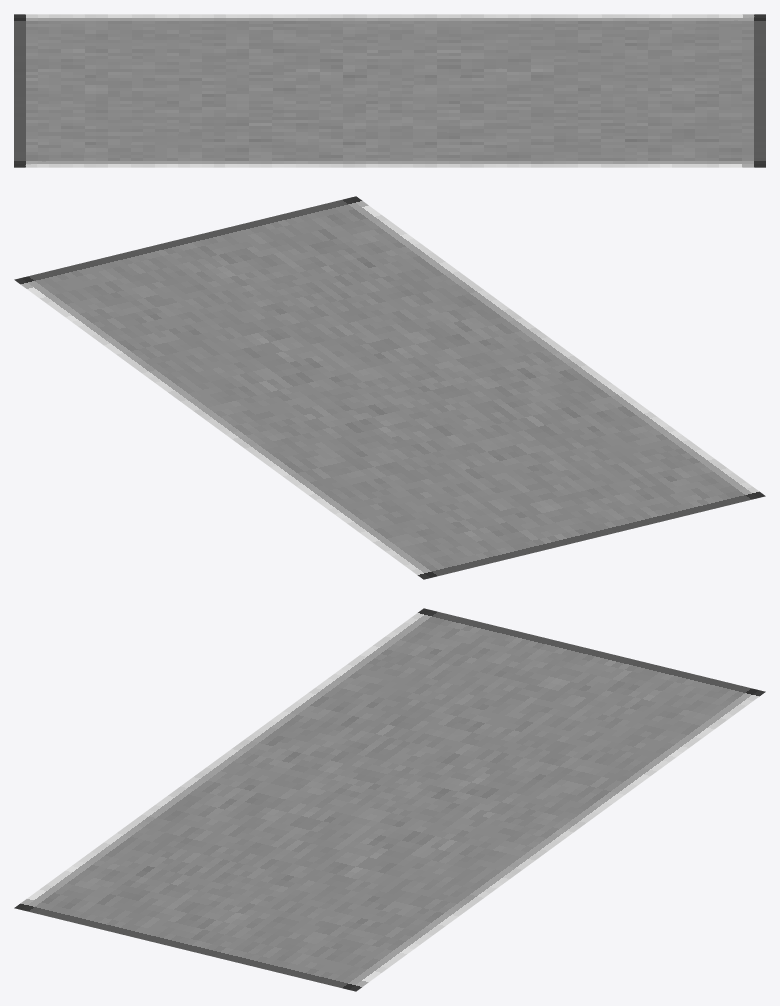
The model's file is primary_193.glb.
The picture shows the model from 3 angles, top to bottom: view 1: azimuth 30°, elevation 25°; view 2: azimuth 150°, elevation 25°; view 3: azimuth 270°, elevation 25°; orthographic projection. The views are drawn at different scales.
Visible parts, largest first — view 1: Object; view 2: Object; view 3: Object.
Boxes of the visible parts, x1,y1,x2,y2 form: Object: [14, 14, 765, 167]; Object: [14, 196, 765, 579]; Object: [14, 608, 765, 991].
Bounding box in the file's own units: 1.61 × 1.26e-06 × 1.33.
Materials: 1 (1 with a texture image).
